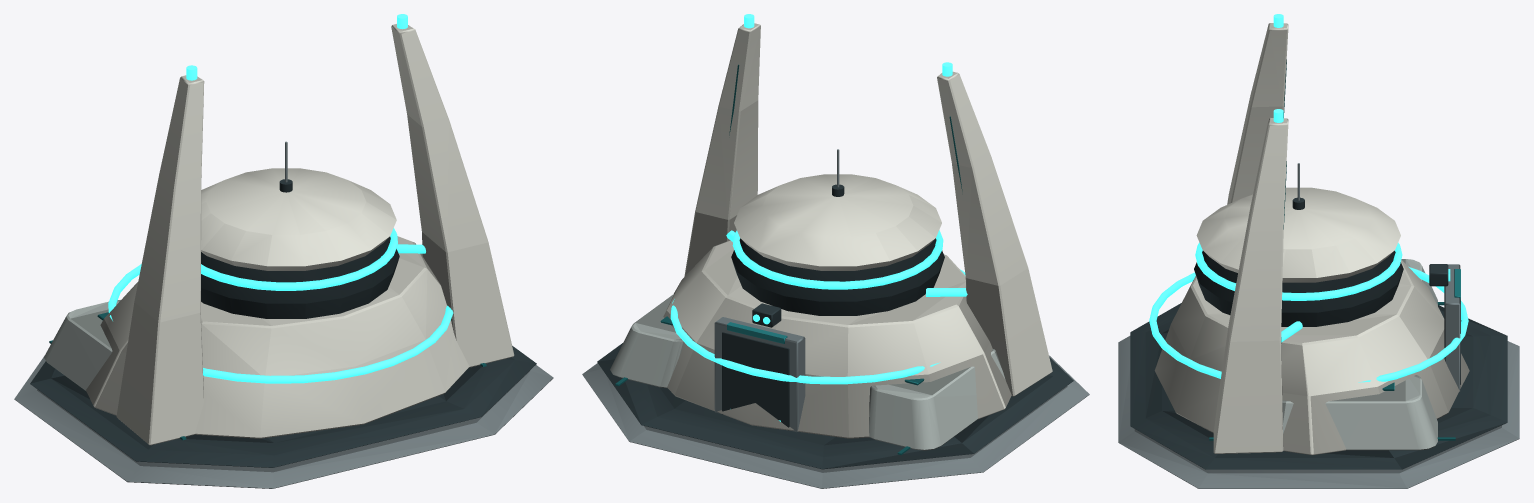
The model's file is NexusHQ.glb.
3 views of the same model, side by side, from view 1: azimuth 30°, elevation 25°; view 2: azimuth 150°, elevation 25°; view 3: azimuth 270°, elevation 25° (orthographic). The views are drawn at different scales.
Visible parts, largest first — view 1: export_NexusHQ_Foundation; view 2: export_NexusHQ_Foundation; view 3: export_NexusHQ_Foundation.
Part boxes in pixels (box(x1,y1,x2,y2)): export_NexusHQ_Foundation: box(14, 14, 553, 488); export_NexusHQ_Foundation: box(582, 14, 1089, 488); export_NexusHQ_Foundation: box(1118, 14, 1519, 488).
Size of the model in its own units: 6.76 by 5.4 by 5.97.
